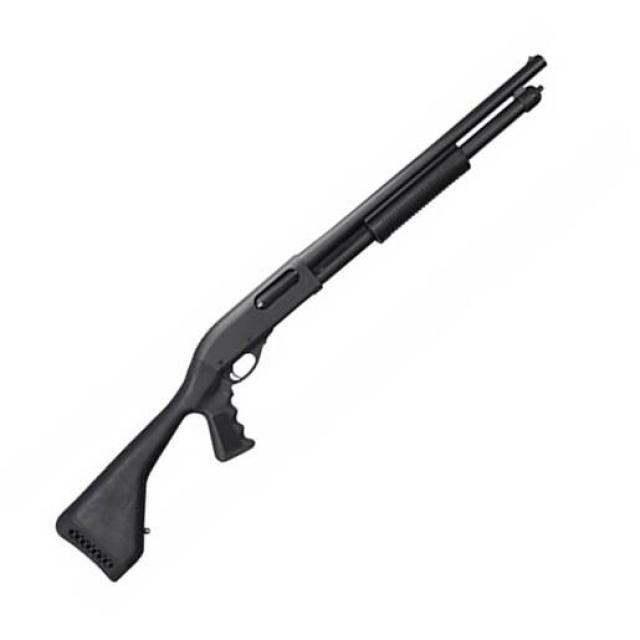ShotGun: (55, 56, 548, 584)
